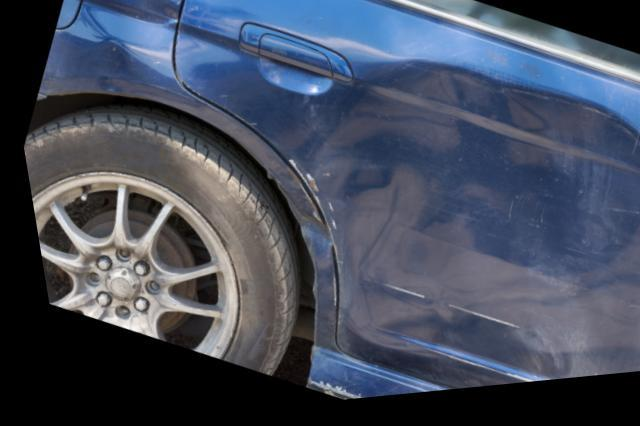dent: (301, 67, 640, 389), (81, 0, 183, 94)
